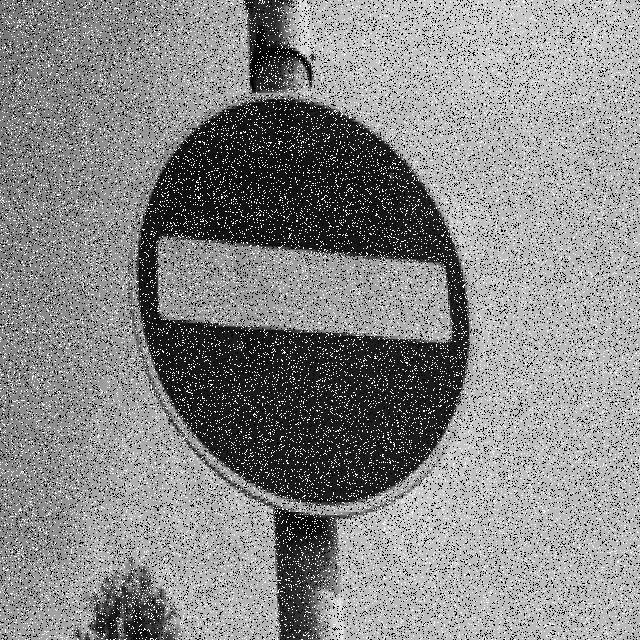no entry: (130, 90, 472, 515)
